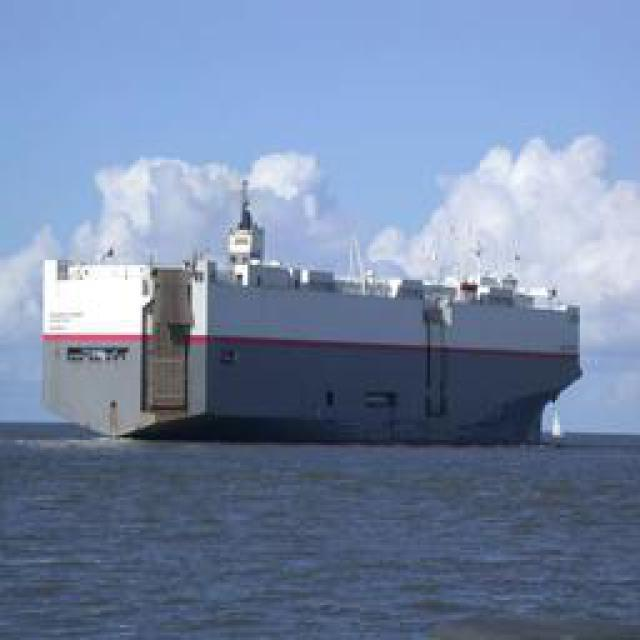Ship: (42, 222, 585, 442)
